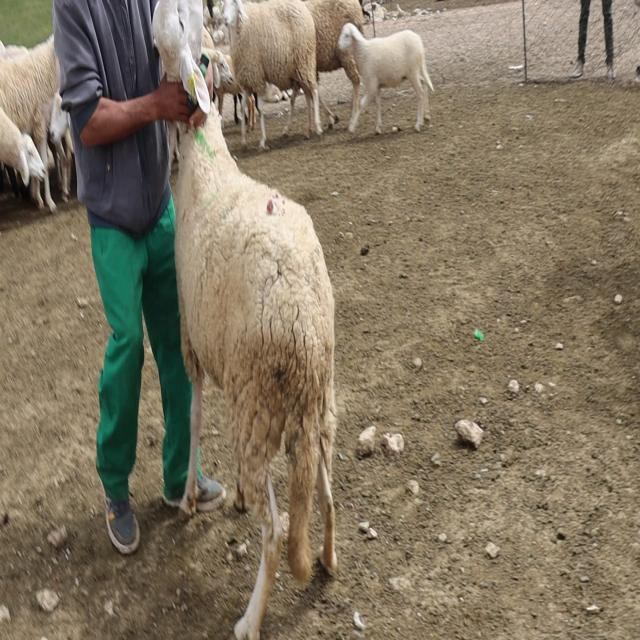Score_1: (175, 106, 337, 639)
